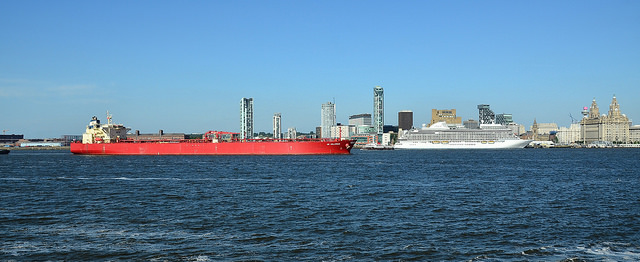cruise_ship: (395, 115, 529, 152)
tanker: (71, 112, 356, 160)
